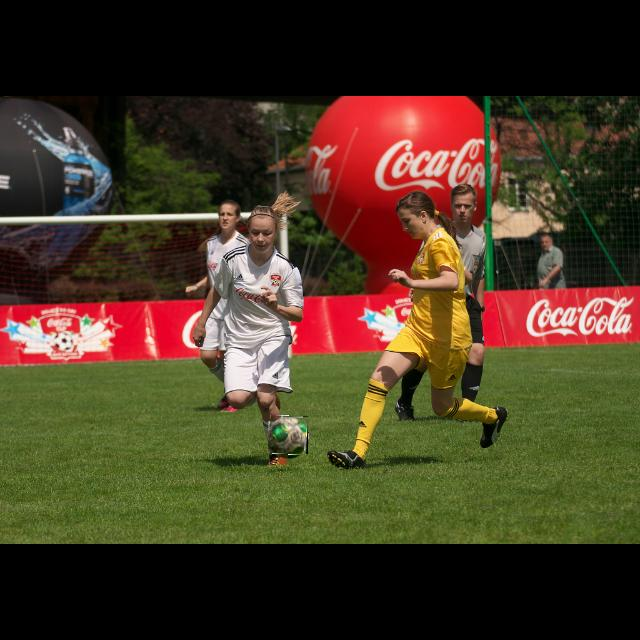Football: (268, 416, 308, 454)
